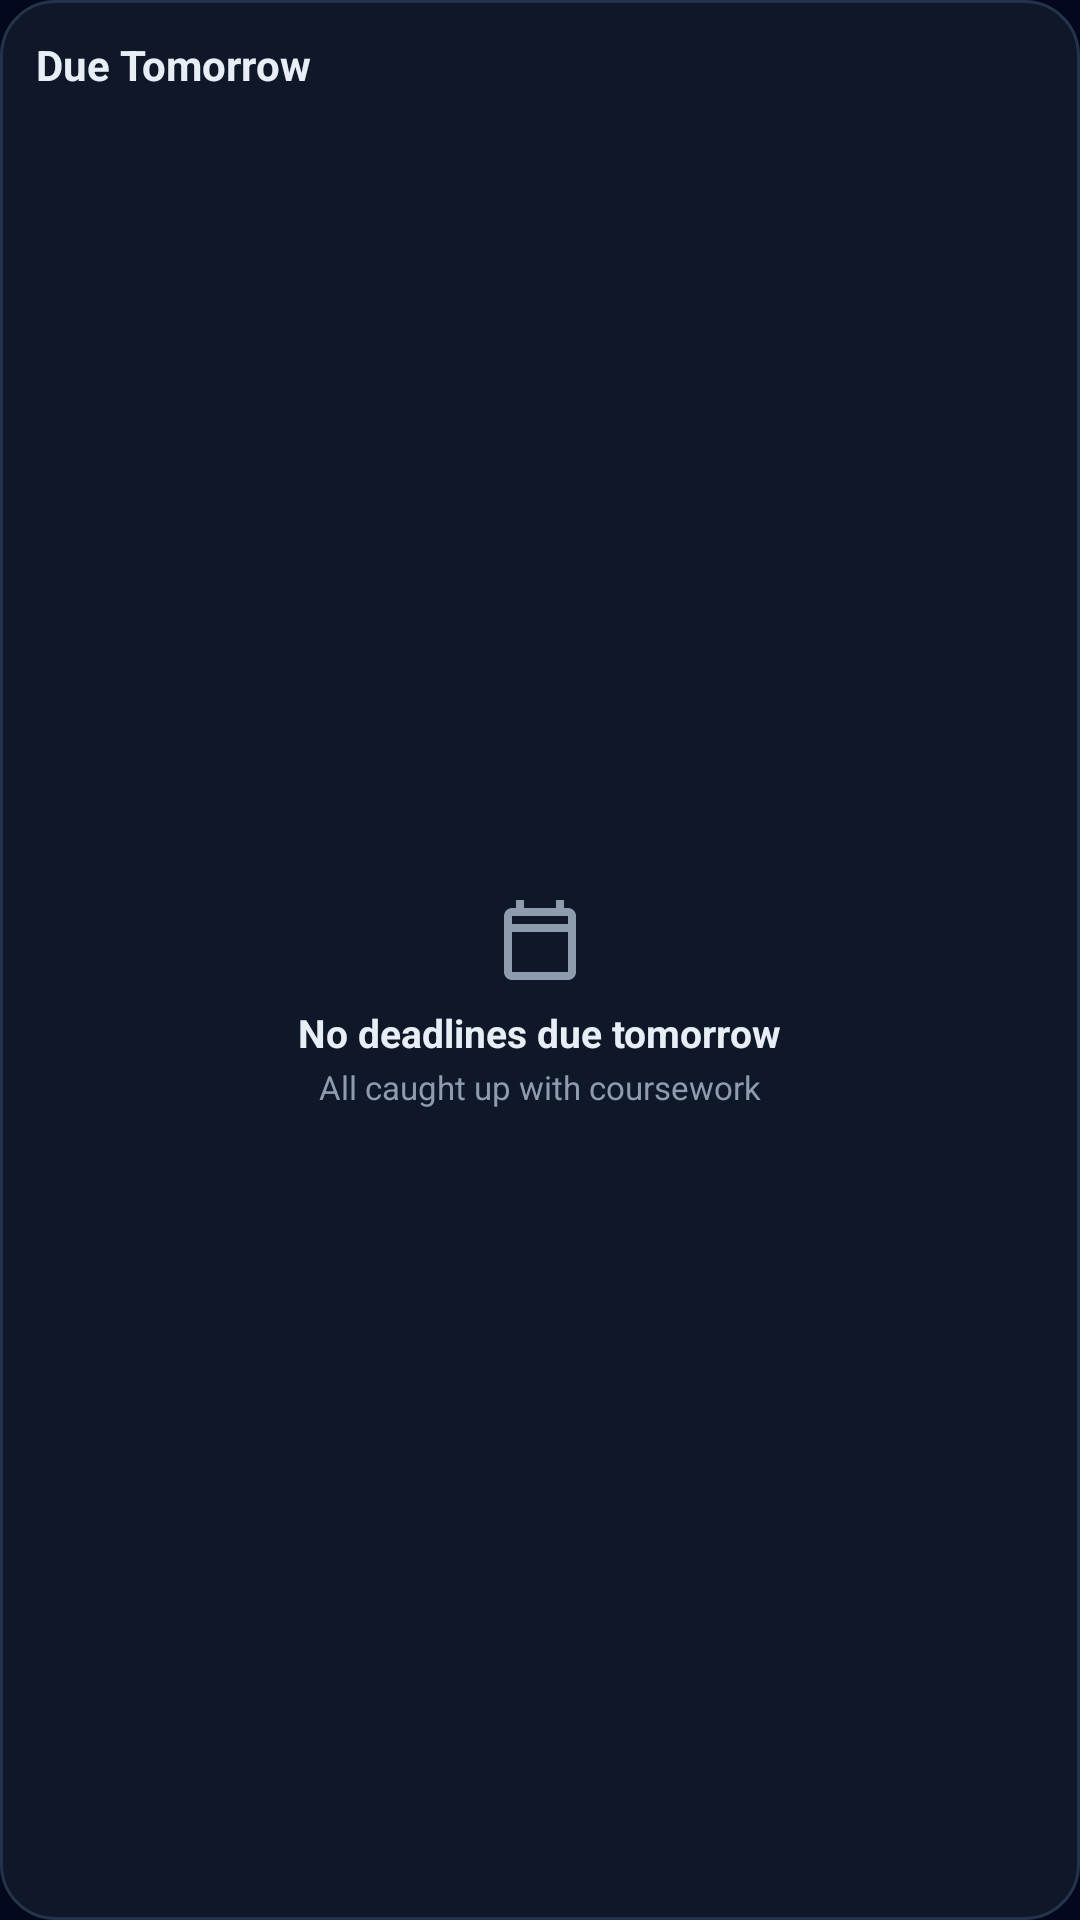

Locate icon controls on the screen. Image size 1080×1920, boxes as (x1, y1, x2, y2).
calendar: (504, 900, 576, 980)
